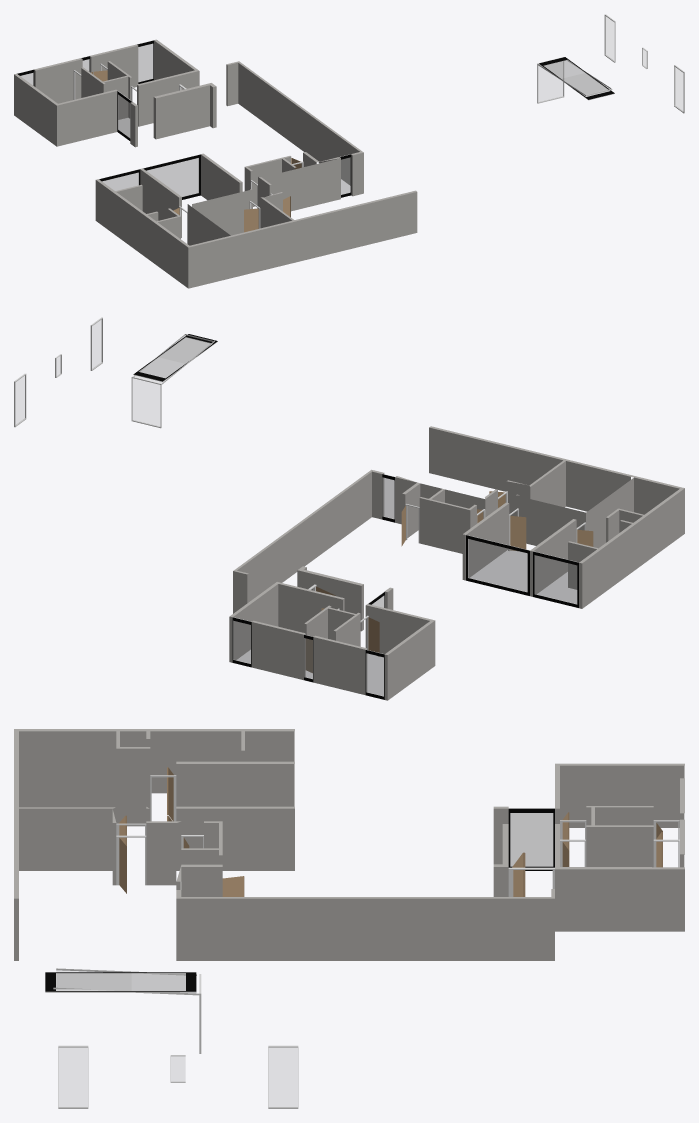
The model's file is plano_light.glb.
3 views of the same model, one above another, from view 1: azimuth 30°, elevation 25°; view 2: azimuth 150°, elevation 25°; view 3: azimuth 270°, elevation 25° (orthographic). The views are drawn at different scales.
Parts seen in each view (by area): view 1: plano_23971b, plano_f58ec5, plano_af1d1c, plano_d3ebfe, plano_79c447; view 2: plano_23971b, plano_f58ec5, plano_d3ebfe, plano_af1d1c, plano_79c447; view 3: plano_23971b, plano_f58ec5, plano_af1d1c, plano_79c447, plano_d3ebfe.
Boxes of the visible parts, bbox=[...] form: plano_23971b: bbox=[14, 39, 417, 288]; plano_f58ec5: bbox=[20, 43, 609, 196]; plano_af1d1c: bbox=[17, 14, 684, 243]; plano_d3ebfe: bbox=[17, 40, 614, 199]; plano_79c447: bbox=[91, 70, 301, 232]; plano_23971b: bbox=[229, 426, 684, 700]; plano_f58ec5: bbox=[139, 337, 577, 695]; plano_d3ebfe: bbox=[134, 334, 578, 699]; plano_af1d1c: bbox=[14, 317, 585, 696]; plano_79c447: bbox=[305, 491, 593, 672]; plano_23971b: bbox=[14, 729, 684, 960]; plano_f58ec5: bbox=[56, 813, 553, 990]; plano_af1d1c: bbox=[45, 731, 684, 1108]; plano_79c447: bbox=[119, 767, 662, 896]; plano_d3ebfe: bbox=[45, 808, 554, 991].
Size of the model in its own units: 35.82 by 5.76 by 26.85.
